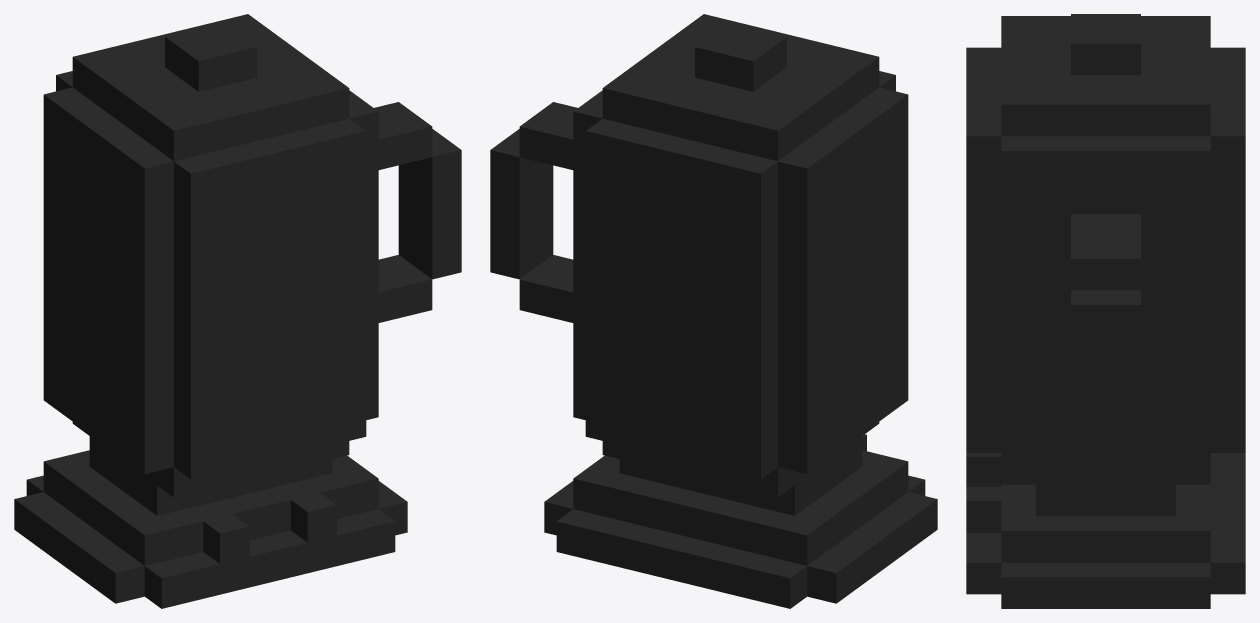
File: blender.obj
3 renders of one model, left to right at view 1: azimuth 30°, elevation 25°; view 2: azimuth 150°, elevation 25°; view 3: azimuth 270°, elevation 25°, orthographic. The views are drawn at different scales.
Size of the model in its own units: 1.3 by 1.6 by 0.8.
